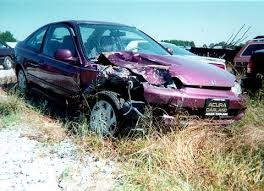Broken-glass: (145, 76, 183, 95)
Smashed: (82, 52, 185, 114)
